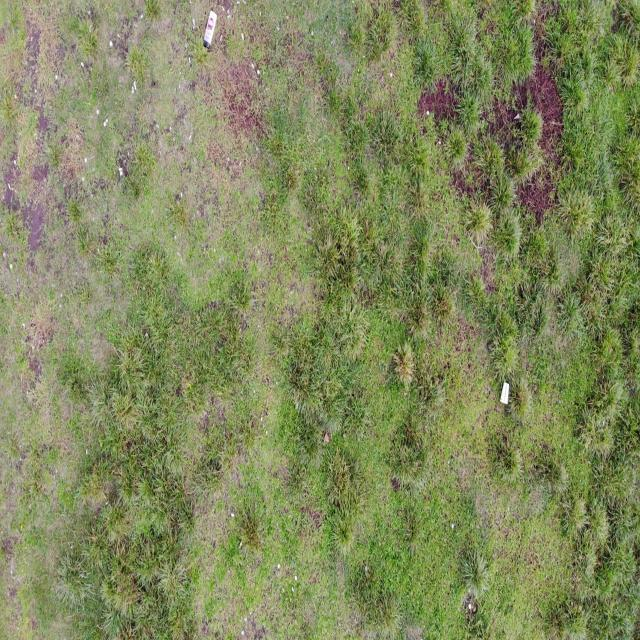rubbish: (202, 9, 219, 51), (498, 381, 512, 407)
